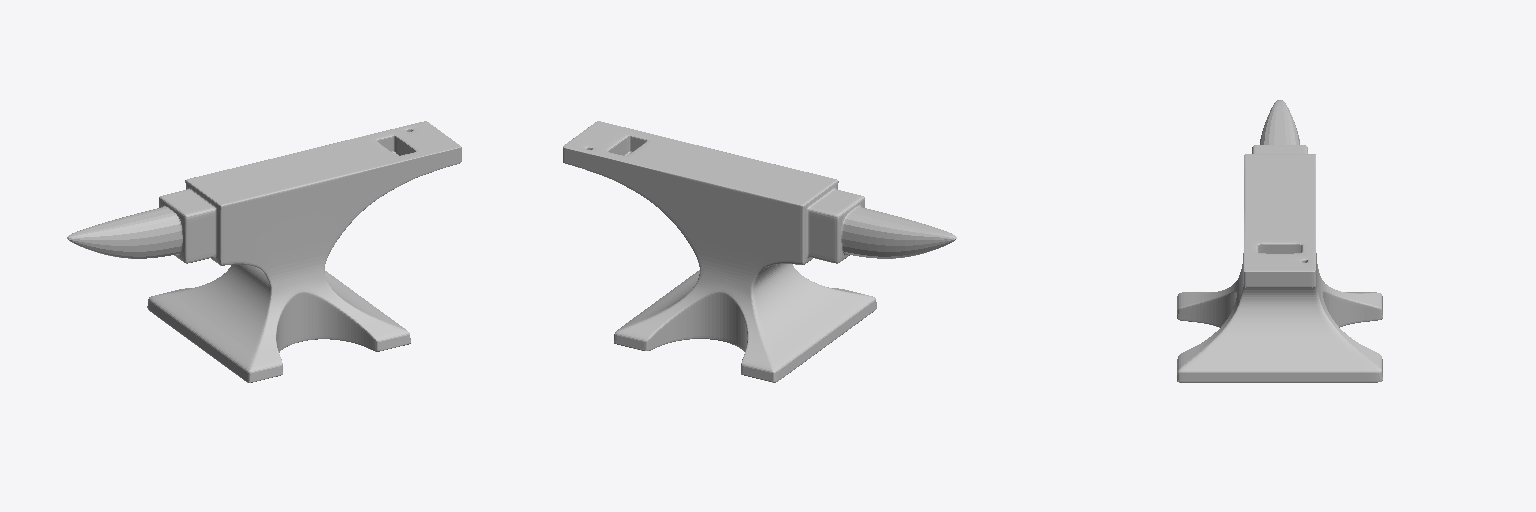
File: Anvil_LowPoly.obj
The picture shows the model from 3 angles: view 1: azimuth 30°, elevation 25°; view 2: azimuth 150°, elevation 25°; view 3: azimuth 270°, elevation 25°; orthographic projection.
Parts seen in each view (by area): view 1: Cube.003; view 2: Cube.003; view 3: Cube.003.
Boxes of the visible parts, x1,y1,x2,y2 form: Cube.003: [67, 121, 461, 382]; Cube.003: [563, 121, 956, 382]; Cube.003: [1177, 100, 1382, 382].
Size of the model in its own units: 6.53 by 2.53 by 3.09.